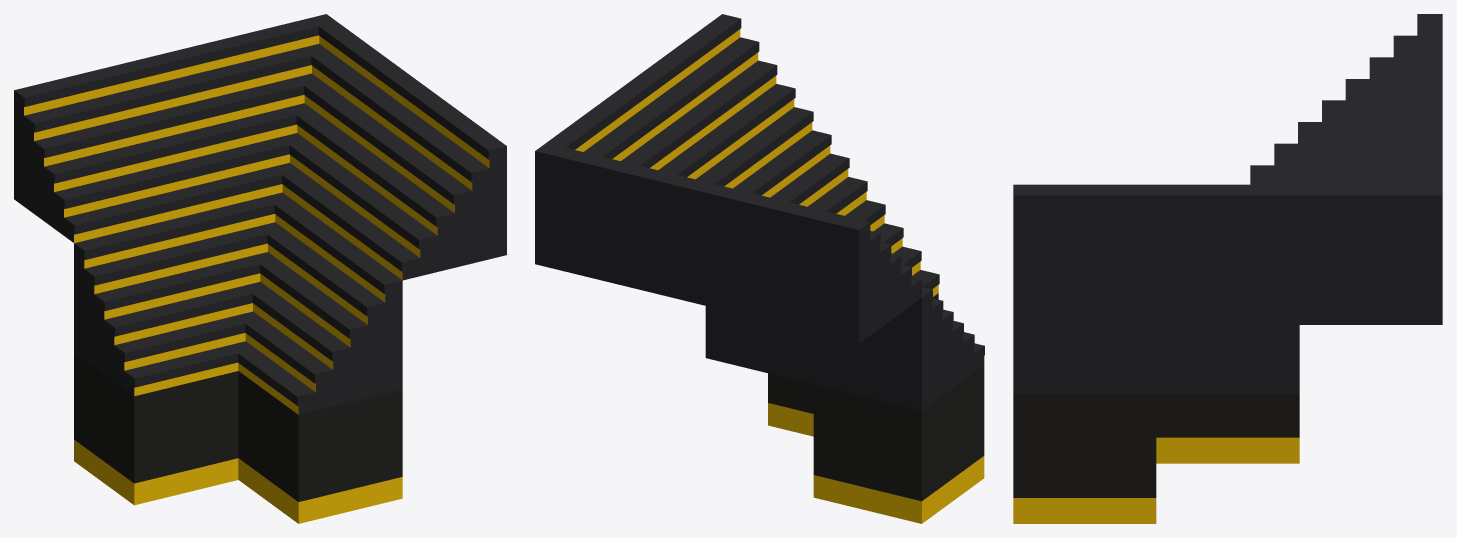
Rendered from Demo_Corner.fbx.
3 renders of one model, left to right at view 1: azimuth 30°, elevation 25°; view 2: azimuth 150°, elevation 25°; view 3: azimuth 270°, elevation 25°, orthographic. The views are drawn at different scales.
Parts seen in each view (by area): view 1: mergedBlocks; view 2: mergedBlocks; view 3: mergedBlocks.
Part boxes in pixels (<box>): mergedBlocks: <box>14,14,506,523</box>; mergedBlocks: <box>535,14,984,523</box>; mergedBlocks: <box>1013,14,1442,523</box>.
Bounding box in the file's own units: 30 × 30 × 30.
